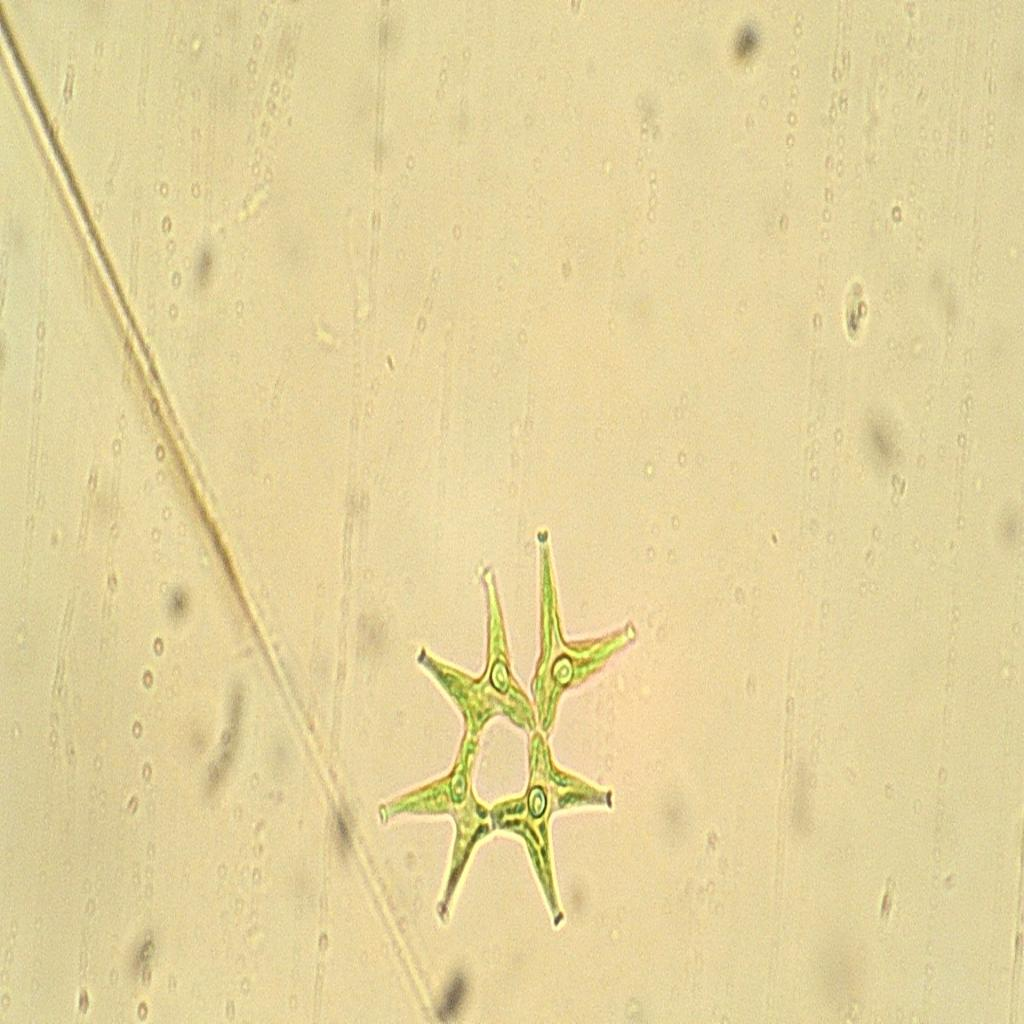Pediastrum_75FI: (368, 512, 650, 963)
